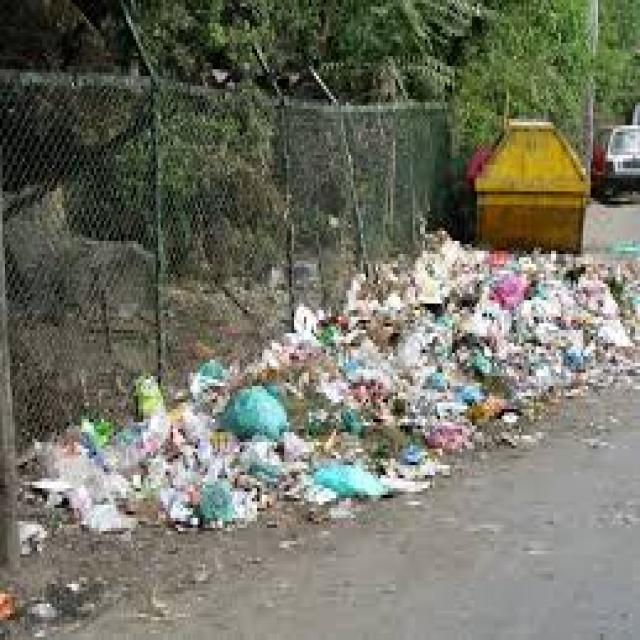heap: (364, 262, 626, 374)
